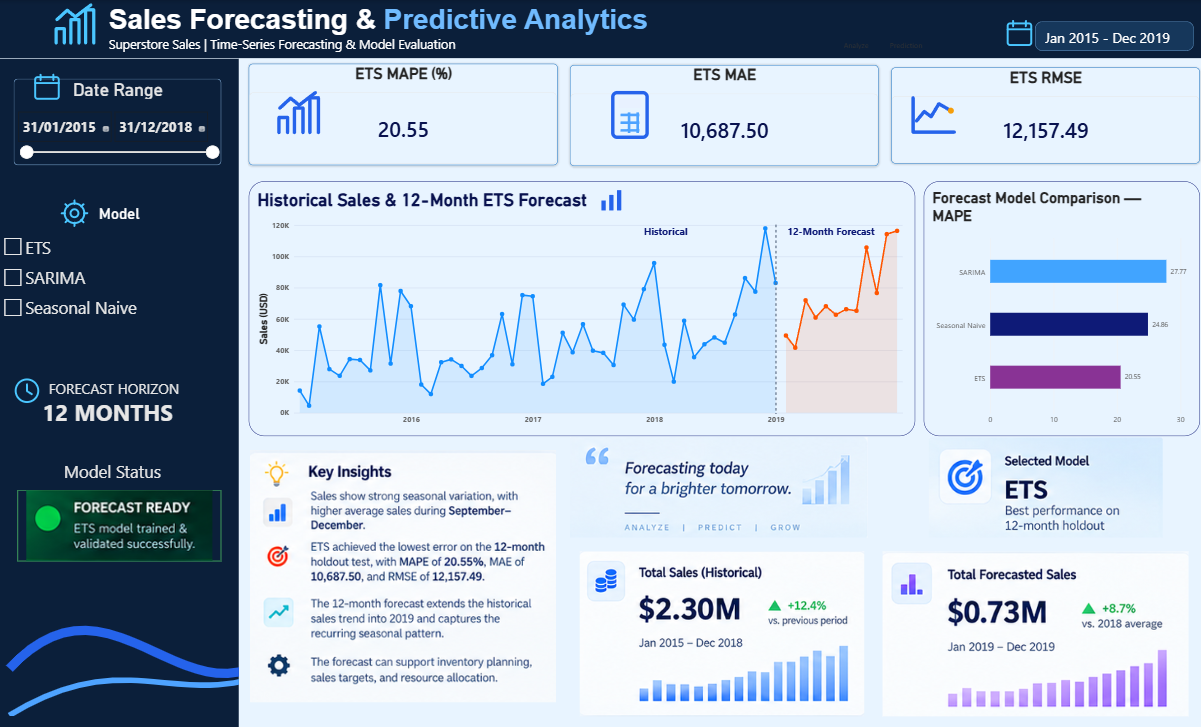

The dashboard page shown, as its layout file describes it:
{"tool":"powerbi","page":{"name":"Page 1","canvas":[2300,1400],"ordinal":0},"visuals":[{"type":"shape","box":[0,0,2300.5,111],"z":0},{"type":"cardVisual","title":"ETS MAPE (%)","fields":{"Data":["Avg(model_comparison.MAPE (%))"]},"box":[474.8,121.7,589.3,193.3],"z":1000},{"type":"cardVisual","title":"ETS MAE","fields":{"Data":["Avg(model_comparison.MAE)"]},"box":[1088.1,124.1,589,193],"z":2000},{"type":"cardVisual","title":"ETS RMSE","fields":{"Data":["Sum(model_comparison.RMSE)"]},"box":[1701.1,128.8,589,183],"z":3000},{"type":"lineChart","title":"Historical Sales & 12-Month ETS Forecast","fields":{"Category":["Dates.Date"],"Y":["Sum(Dates.Sales)","Sum(Dates.ETS_Forecast)"]},"box":[474.8,345.9,1271.6,486.7],"z":4000},{"type":"textbox","box":[207.1,7.4,1072.6,120.8],"z":5000},{"type":"actionButton","title":"Analyze","box":[1584,68,100,28],"z":6000},{"type":"actionButton","title":"Analyze","box":[1679,68,100,28],"z":7000},{"type":"shape","box":[1975,39.5,303.3,56.7],"z":8000},{"type":"textbox","box":[1994.6,52.5,305.7,56.7],"z":9000},{"type":"shape","box":[0,112.1,455.7,1288.4],"z":10000},{"type":"slicer","title":"   Date Range","fields":{"Values":["historical_monthly_sales.Date"]},"box":[26.2,150.3,396,164.6],"z":11000},{"type":"slicer","title":"Model","fields":{"Values":["model_comparison.Model"]},"box":[0,391.3,455.7,243.4],"z":12000},{"type":"textbox","box":[93,722.9,329.2,57.3],"z":13000},{"type":"textbox","box":[81.1,756.3,262.4,76.3],"z":14000},{"type":"image","box":[474.8,858.9,589.3,481.9],"z":15000},{"type":"image","box":[517.7,167,105,105],"z":16000},{"type":"image","box":[1150,167,105,105],"z":17000},{"type":"image","box":[59.6,131.2,59.6,69.2],"z":18000},{"type":"image","box":[112.1,372.2,59.6,69.2],"z":19000},{"type":"image","box":[1130.9,355.5,71.6,52.5],"z":20000},{"type":"image","box":[1729.7,167,105,105],"z":21000},{"type":"image","box":[21.5,711,59.6,69.2],"z":22000},{"type":"image","box":[33.4,935.2,388.9,136],"z":23000},{"type":"image","box":[1746.4,835,498.6,190.9],"z":24000},{"type":"image","box":[1087.9,756.3,567.8,348.3],"z":25000},{"type":"image","box":[1076,1052.2,603.6,314.9],"z":26000},{"type":"image","box":[1674.9,1052.2,603.6,314.9],"z":27000},{"type":"image","box":[1915.8,28.6,59.6,69.2],"z":28000},{"type":"image","box":[90.7,0,105,100.2],"z":29000},{"type":"image","box":[0,1071.2,455.7,295.8],"z":30000},{"type":"textbox","box":[121.7,878,300.6,52.5],"z":31000},{"type":"clusteredBarChart","title":"Forecast Model Comparison — MAPE","fields":{"Category":["model_comparison.Model"],"Y":["Avg(model_comparison.MAPE (%))"]},"box":[1763.1,345.9,527.3,486.7],"z":32000},{"type":"textbox","box":[1228.7,429.5,472.4,83.5],"z":32001}]}

Visuals, with their boxes in screenshot pixels (x1, y1, x2, y2), scaled from the page's 2300x1400 canvas onto the 1201x727 screenshot:
shape: (left=0, top=0, right=1200, bottom=58)
"ETS MAPE (%)" cardVisual: (left=248, top=63, right=556, bottom=164)
"ETS MAE" cardVisual: (left=568, top=64, right=876, bottom=165)
"ETS RMSE" cardVisual: (left=888, top=67, right=1196, bottom=162)
"Historical Sales & 12-Month ETS Forecast" lineChart: (left=248, top=180, right=912, bottom=432)
textbox: (left=108, top=4, right=668, bottom=67)
"Analyze" actionButton: (left=827, top=35, right=879, bottom=50)
"Analyze" actionButton: (left=877, top=35, right=929, bottom=50)
shape: (left=1031, top=21, right=1190, bottom=50)
textbox: (left=1042, top=27, right=1200, bottom=57)
shape: (left=0, top=58, right=238, bottom=726)
"   Date Range" slicer: (left=14, top=78, right=220, bottom=164)
"Model" slicer: (left=0, top=203, right=238, bottom=330)
textbox: (left=49, top=375, right=220, bottom=405)
textbox: (left=42, top=393, right=179, bottom=432)
image: (left=248, top=446, right=556, bottom=696)
image: (left=270, top=87, right=325, bottom=141)
image: (left=600, top=87, right=655, bottom=141)
image: (left=31, top=68, right=62, bottom=104)
image: (left=59, top=193, right=90, bottom=229)
image: (left=591, top=185, right=628, bottom=212)
image: (left=903, top=87, right=958, bottom=141)
image: (left=11, top=369, right=42, bottom=405)
image: (left=17, top=486, right=221, bottom=556)
image: (left=912, top=434, right=1172, bottom=533)
image: (left=568, top=393, right=865, bottom=574)
image: (left=562, top=546, right=877, bottom=710)
image: (left=875, top=546, right=1190, bottom=710)
image: (left=1000, top=15, right=1032, bottom=51)
image: (left=47, top=0, right=102, bottom=52)
image: (left=0, top=556, right=238, bottom=710)
textbox: (left=64, top=456, right=221, bottom=483)
"Forecast Model Comparison — MAPE" clusteredBarChart: (left=921, top=180, right=1196, bottom=432)
textbox: (left=642, top=223, right=888, bottom=266)
